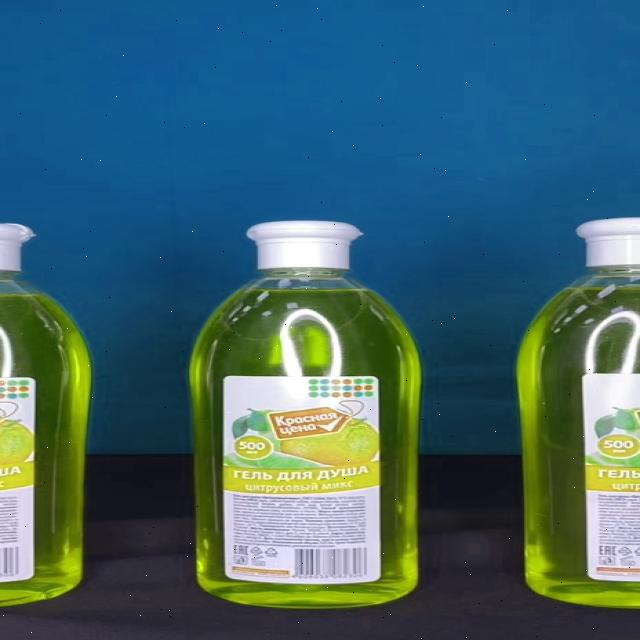Bottle: (189, 221, 423, 609)
Cap: (245, 222, 365, 268)
